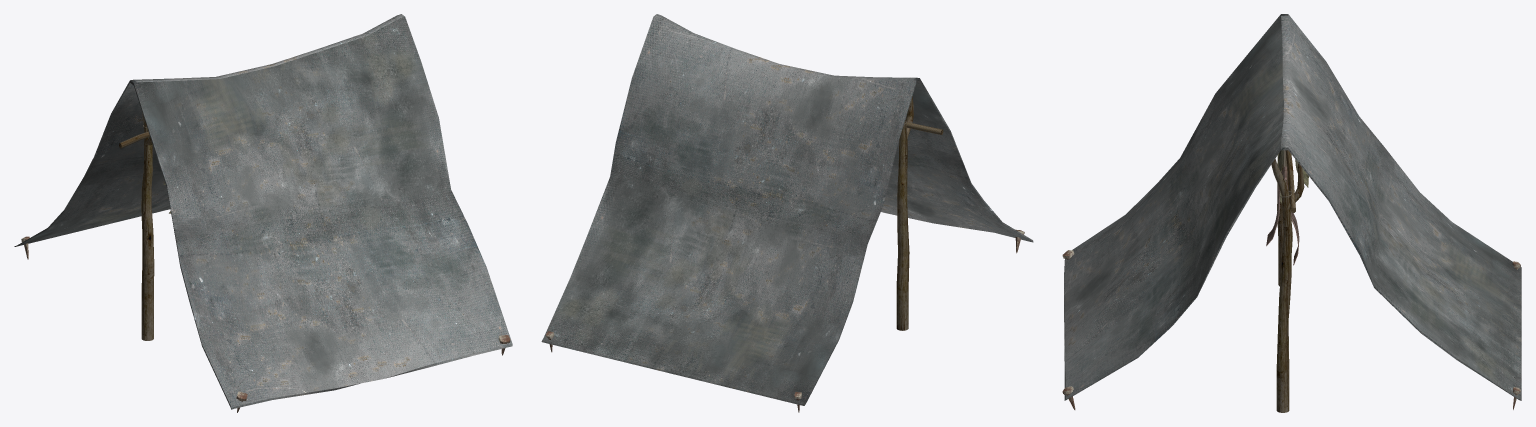
Rendered from TentShanty.fbx.
3 views of the same model, side by side, from view 1: azimuth 30°, elevation 25°; view 2: azimuth 150°, elevation 25°; view 3: azimuth 270°, elevation 25° (orthographic). The views are drawn at different scales.
Parts seen in each view (by area): view 1: pCube1, polySurface1; view 2: pCube1, polySurface1; view 3: pCube1, polySurface2, pCube2, polySurface1.
Part boxes in pixels (bbox=[...]): pCube1: bbox=[14, 14, 512, 409]; polySurface1: bbox=[141, 112, 154, 340]; pCube1: bbox=[541, 14, 1033, 405]; polySurface1: bbox=[896, 96, 913, 330]; pCube1: bbox=[1064, 14, 1521, 400]; polySurface2: bbox=[1271, 159, 1304, 412]; pCube2: bbox=[1266, 166, 1299, 265]; polySurface1: bbox=[1277, 153, 1289, 286].
Bounding box in the file's own units: 177 × 149 × 230.
